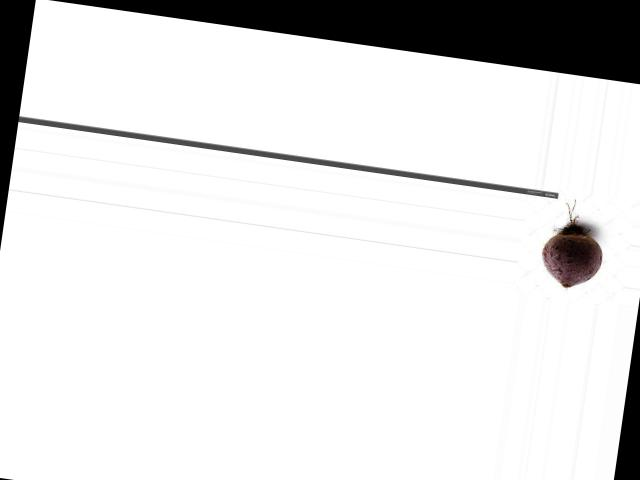beet: (537, 195, 610, 292)
